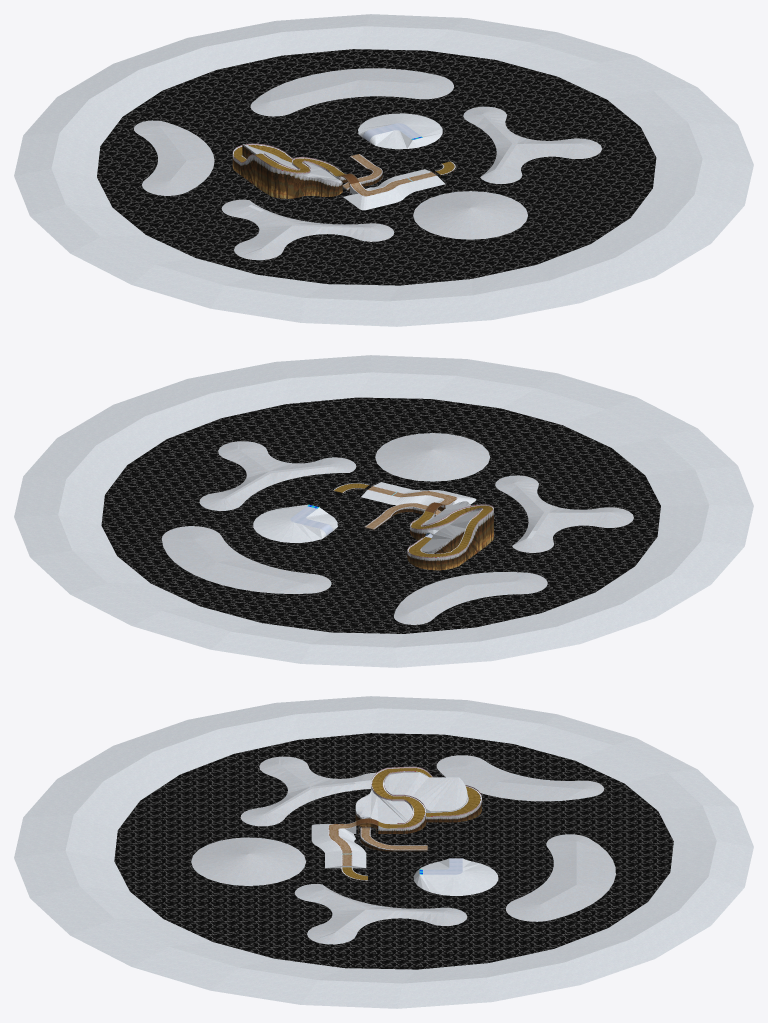
3 views of the same model, one above another, from view 1: azimuth 30°, elevation 25°; view 2: azimuth 150°, elevation 25°; view 3: azimuth 270°, elevation 25° (orthographic).
Parts seen in each view (by area): view 1: Crystal_Main_Snow.001, Crystal_Main_Water.001, Crystal_Main_Snow_Death.001, Crystal_Main_Wall.001, Crystal_Main_Board.001, Crystal_Main_Board1.001; view 2: Crystal_Main_Snow.001, Crystal_Main_Water.001, Crystal_Main_Snow_Death.001, Crystal_Main_Wall.001, Crystal_Main_Board.001, Crystal_Main_Board1.001; view 3: Crystal_Main_Snow.001, Crystal_Main_Water.001, Crystal_Main_Snow_Death.001, Crystal_Main_Board.001, Crystal_Main_Wall.001, Crystal_Main_Board1.001.
Part boxes in pixels (left/top/right/bottom): Crystal_Main_Snow.001: left=14, top=14, right=753, bottom=326; Crystal_Main_Water.001: left=97, top=49, right=656, bottom=285; Crystal_Main_Snow_Death.001: left=134, top=68, right=601, bottom=260; Crystal_Main_Wall.001: left=232, top=144, right=454, bottom=198; Crystal_Main_Board.001: left=233, top=144, right=455, bottom=176; Crystal_Main_Board1.001: left=342, top=154, right=436, bottom=196; Crystal_Main_Snow.001: left=14, top=355, right=753, bottom=667; Crystal_Main_Water.001: left=101, top=397, right=660, bottom=633; Crystal_Main_Snow_Death.001: left=161, top=433, right=633, bottom=624; Crystal_Main_Wall.001: left=333, top=485, right=493, bottom=570; Crystal_Main_Board.001: left=333, top=483, right=493, bottom=557; Crystal_Main_Board1.001: left=365, top=486, right=457, bottom=528; Crystal_Main_Snow.001: left=14, top=696, right=753, bottom=1008; Crystal_Main_Water.001: left=114, top=733, right=673, bottom=969; Crystal_Main_Snow_Death.001: left=191, top=755, right=615, bottom=944; Crystal_Main_Board.001: left=341, top=767, right=481, bottom=880; Crystal_Main_Wall.001: left=343, top=785, right=481, bottom=880; Crystal_Main_Board1.001: left=328, top=821, right=427, bottom=865.
Size of the model in its own units: 241061 by 11746 by 241061.
Materials: 18 (18 with a texture image).
